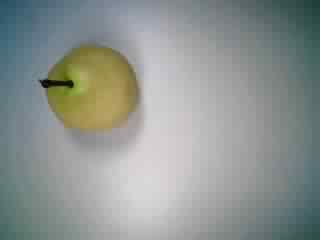pear: (34, 34, 142, 139)
